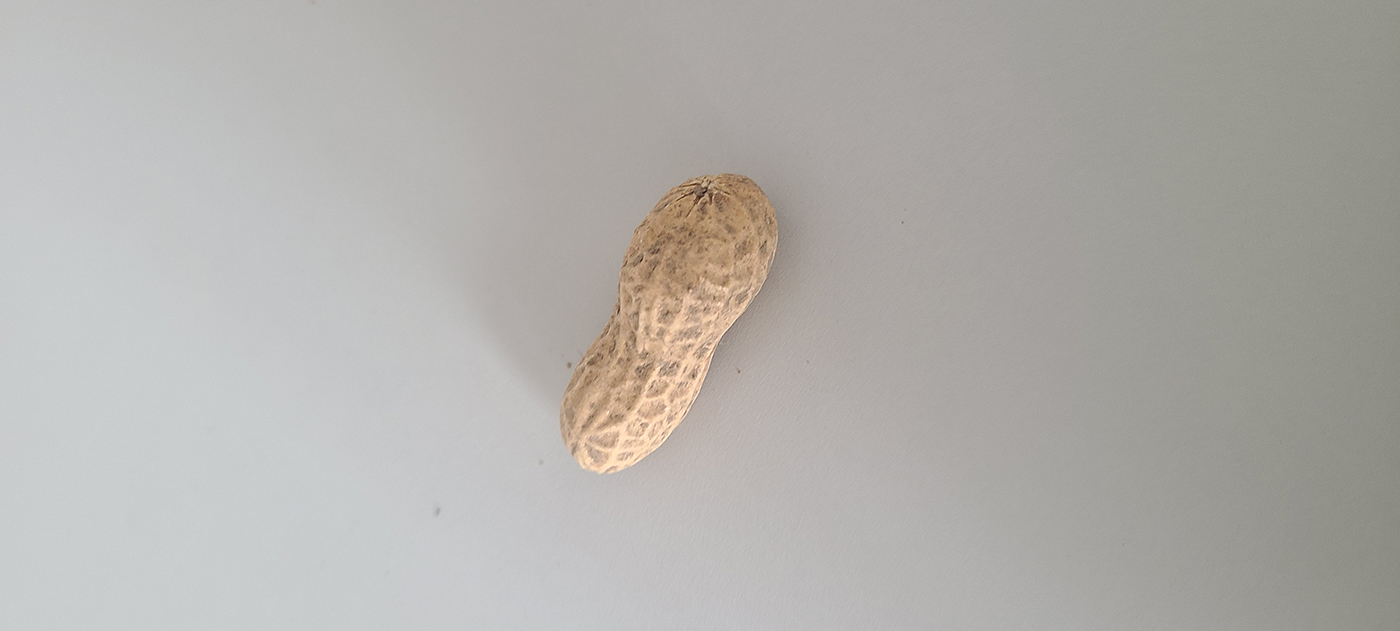h: (558, 169, 781, 473)
